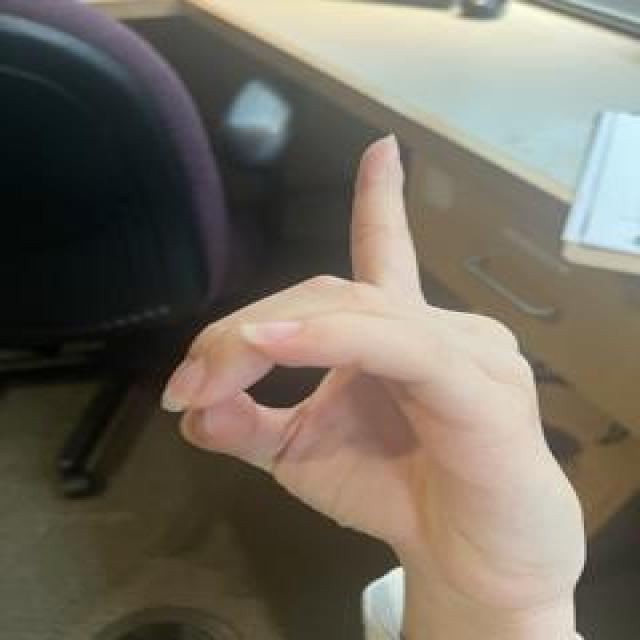D: (152, 131, 595, 615)
